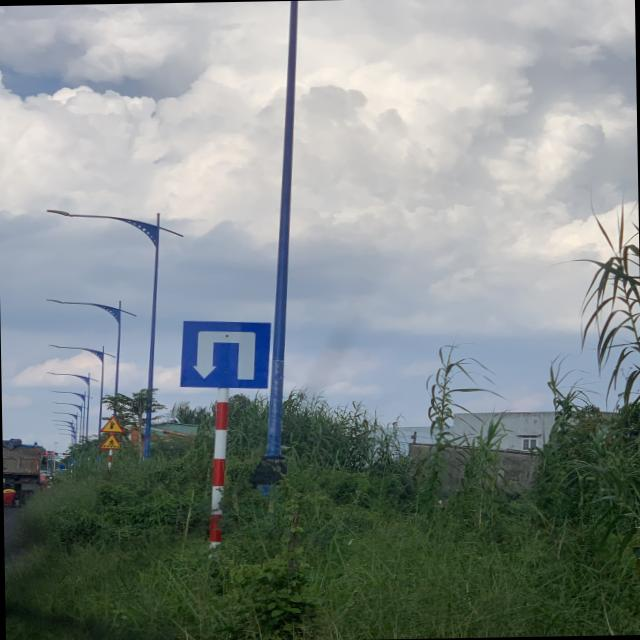Den_Giao_Thong: (178, 318, 274, 389)
